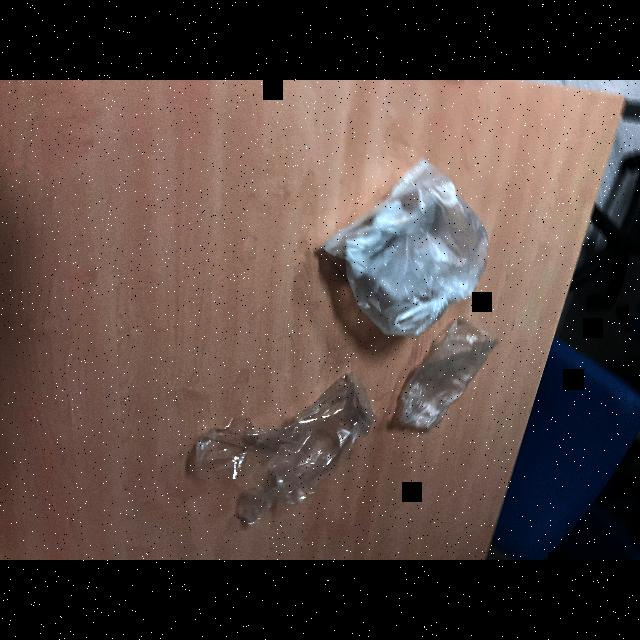plastic_bag: (318, 158, 496, 344), (186, 377, 364, 527), (390, 324, 502, 438)
